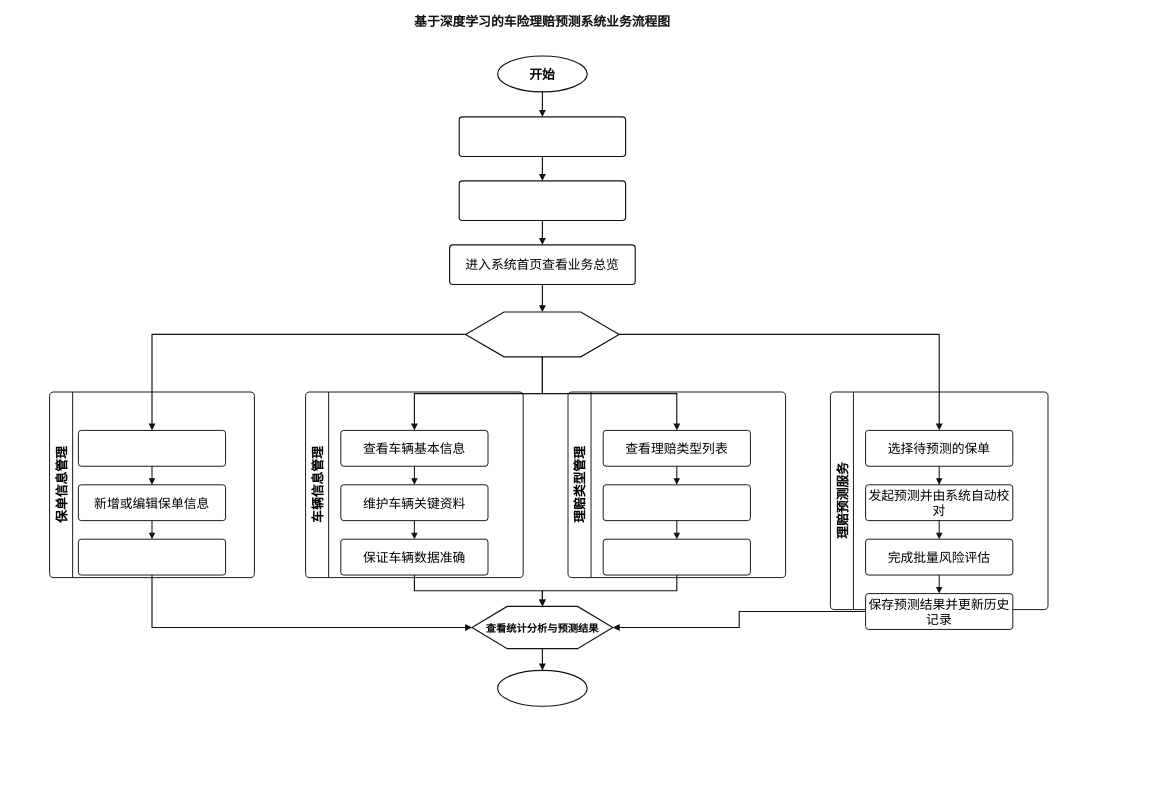
This 1174x790 diagram has some shape labels left out. The centre of each missing label's shape, as x and y in pixels:
"保存更新内容并继续管理" goes at pixel 152 556.
"保证理赔类型数据准确" goes at pixel 676 556.
"查看保单列表" goes at pixel 152 448.
"用户输入工号与密码" goes at pixel 542 136.
"系统校验账号并确认权限" goes at pixel 542 200.
"结束" goes at pixel 542 688.
"维护理赔类型与金额" goes at pixel 676 502.
"进入功能入口选择业务" goes at pixel 542 334.
